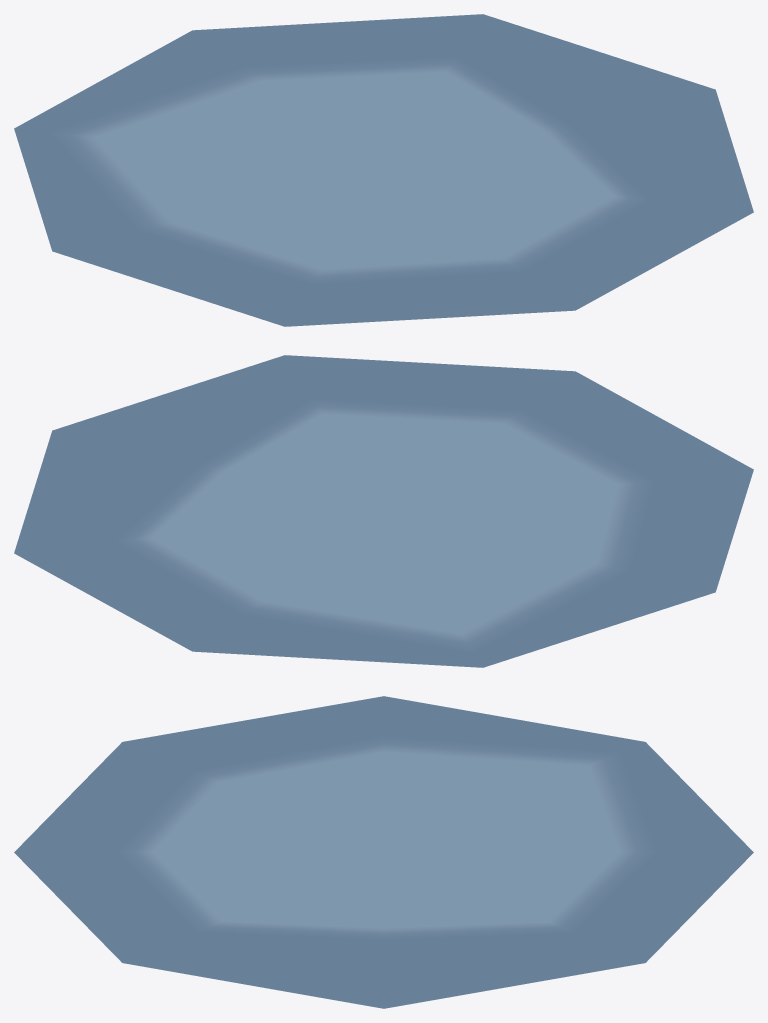
Rendered from SM_Prop_Bucket_01_Insert_01.fbx.
The picture shows the model from 3 angles, top to bottom: view 1: azimuth 30°, elevation 25°; view 2: azimuth 150°, elevation 25°; view 3: azimuth 270°, elevation 25°; orthographic projection. The views are drawn at different scales.
Visible parts, largest first — view 1: SM_Prop_Bucket_01_Insert_01; view 2: SM_Prop_Bucket_01_Insert_01; view 3: SM_Prop_Bucket_01_Insert_01.
Boxes of the visible parts, x1,y1,x2,y2 form: SM_Prop_Bucket_01_Insert_01: (14, 14, 753, 326); SM_Prop_Bucket_01_Insert_01: (14, 355, 753, 667); SM_Prop_Bucket_01_Insert_01: (14, 696, 753, 1008).
Bounding box in the file's own units: 44.61 × 0 × 44.61.
